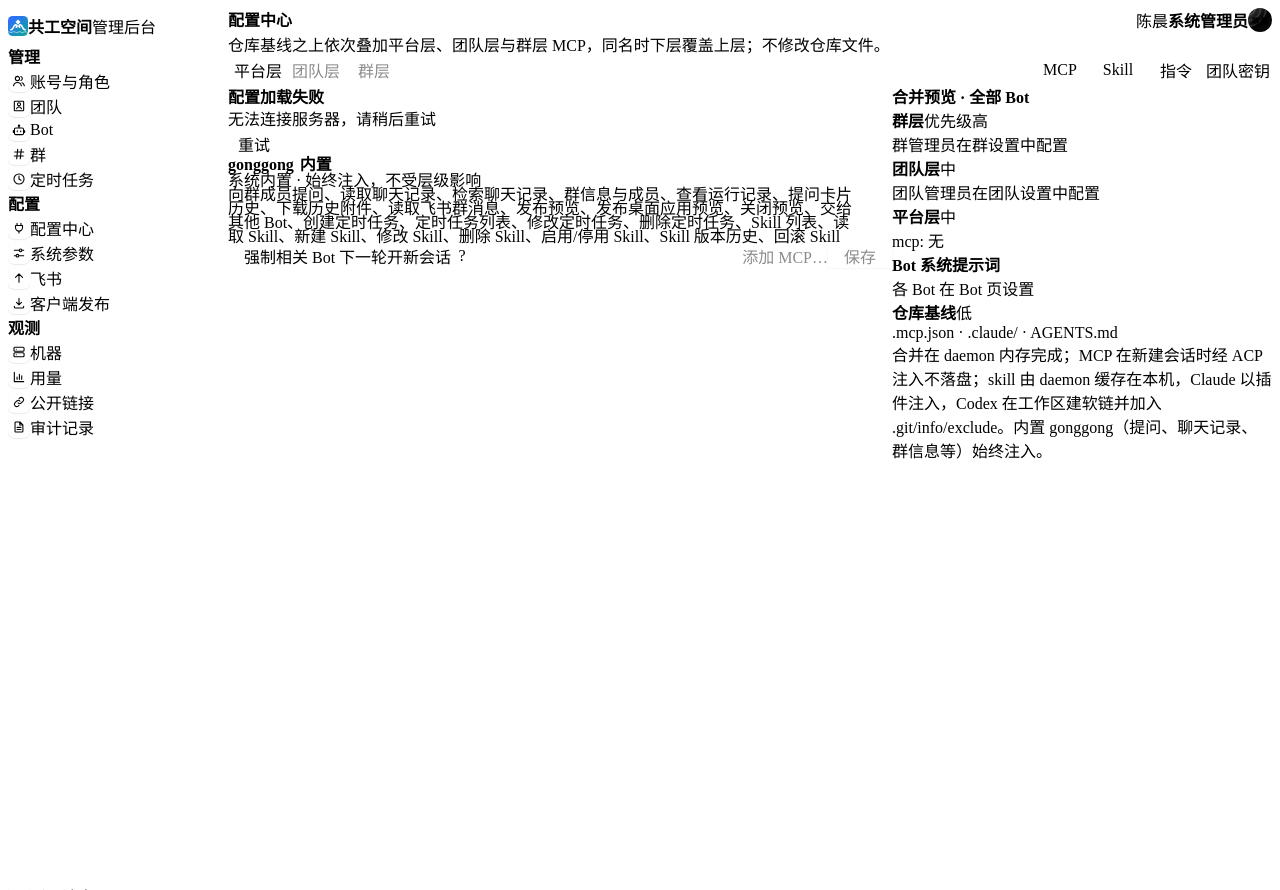
Test: 配置中心 › shows a failed load inline with one message and retries
The width and height of the screenshot is (1280, 890).
Check: the number of messages is 1, box [228,89,436,156]
Check: the heading "配置加载失败" is shown, box [228,89,324,106]
Click the button "重试": point(254, 144) [228,132,280,156]
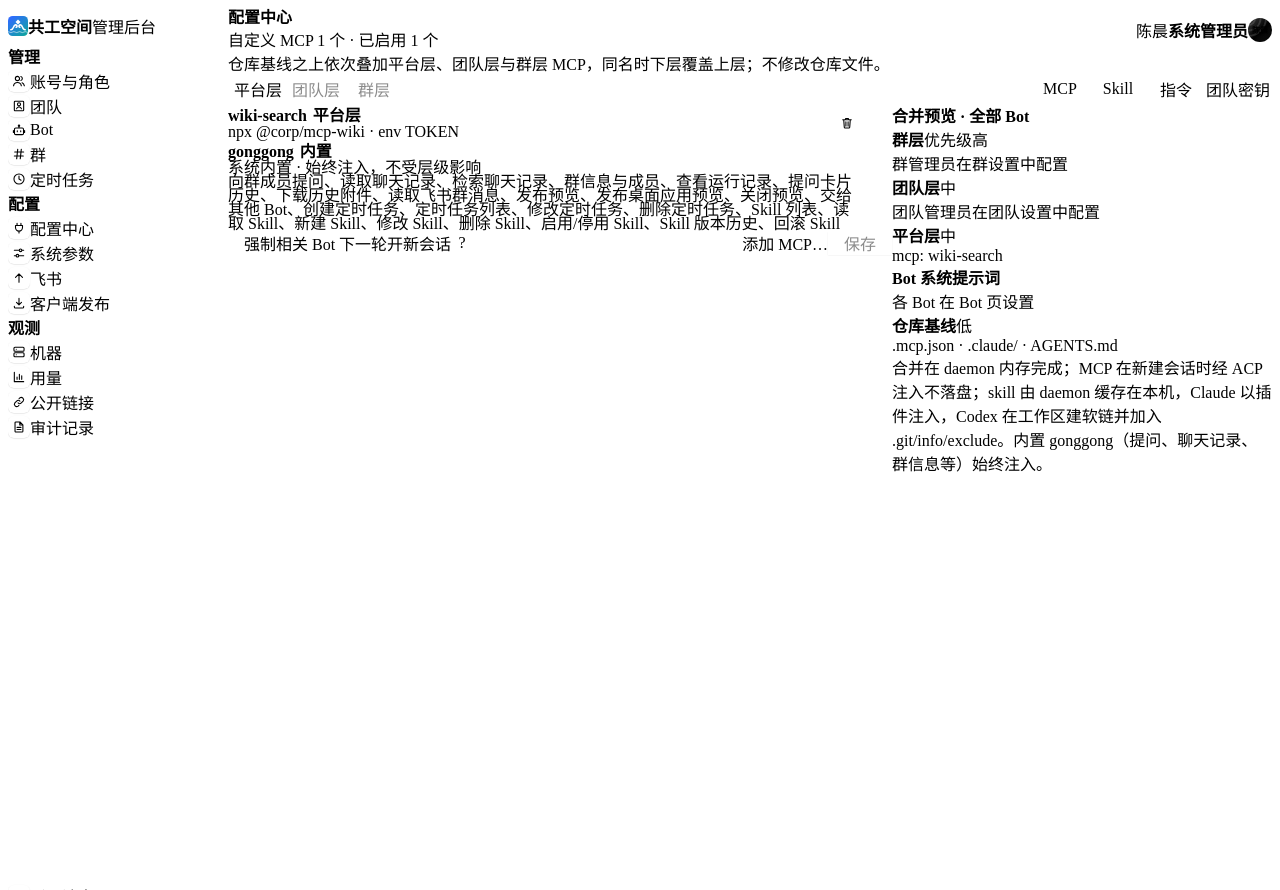
Check: the text "wiki-search" is shown, box [228,107,307,125]
Check: the heading "配置加载失败" is gone
